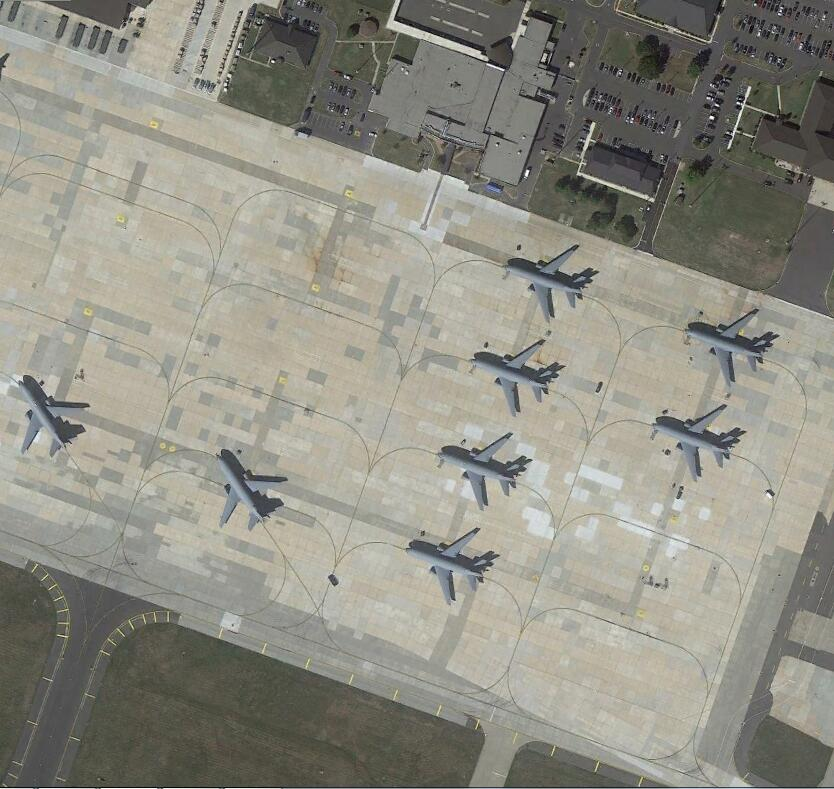A18: (406, 523, 497, 609), (685, 303, 776, 388), (657, 401, 743, 487), (470, 336, 560, 418), (504, 242, 592, 324), (438, 433, 530, 511), (210, 450, 293, 532), (10, 377, 91, 460)
